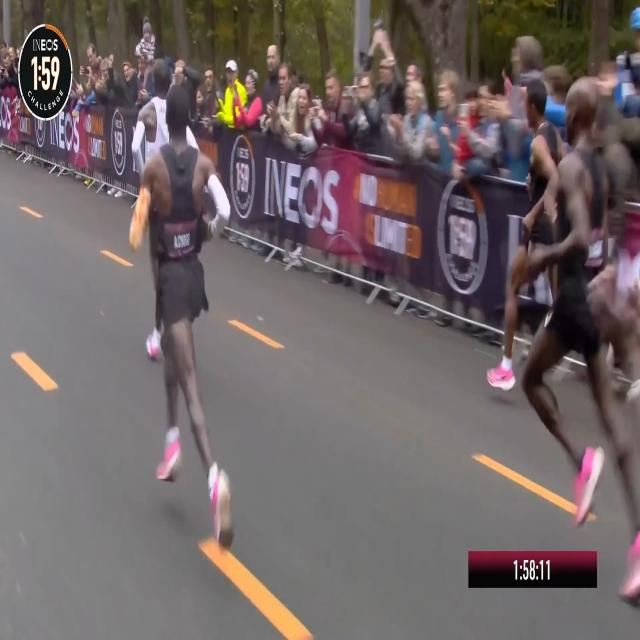person_running: (526, 74, 640, 621), (134, 79, 246, 562)
